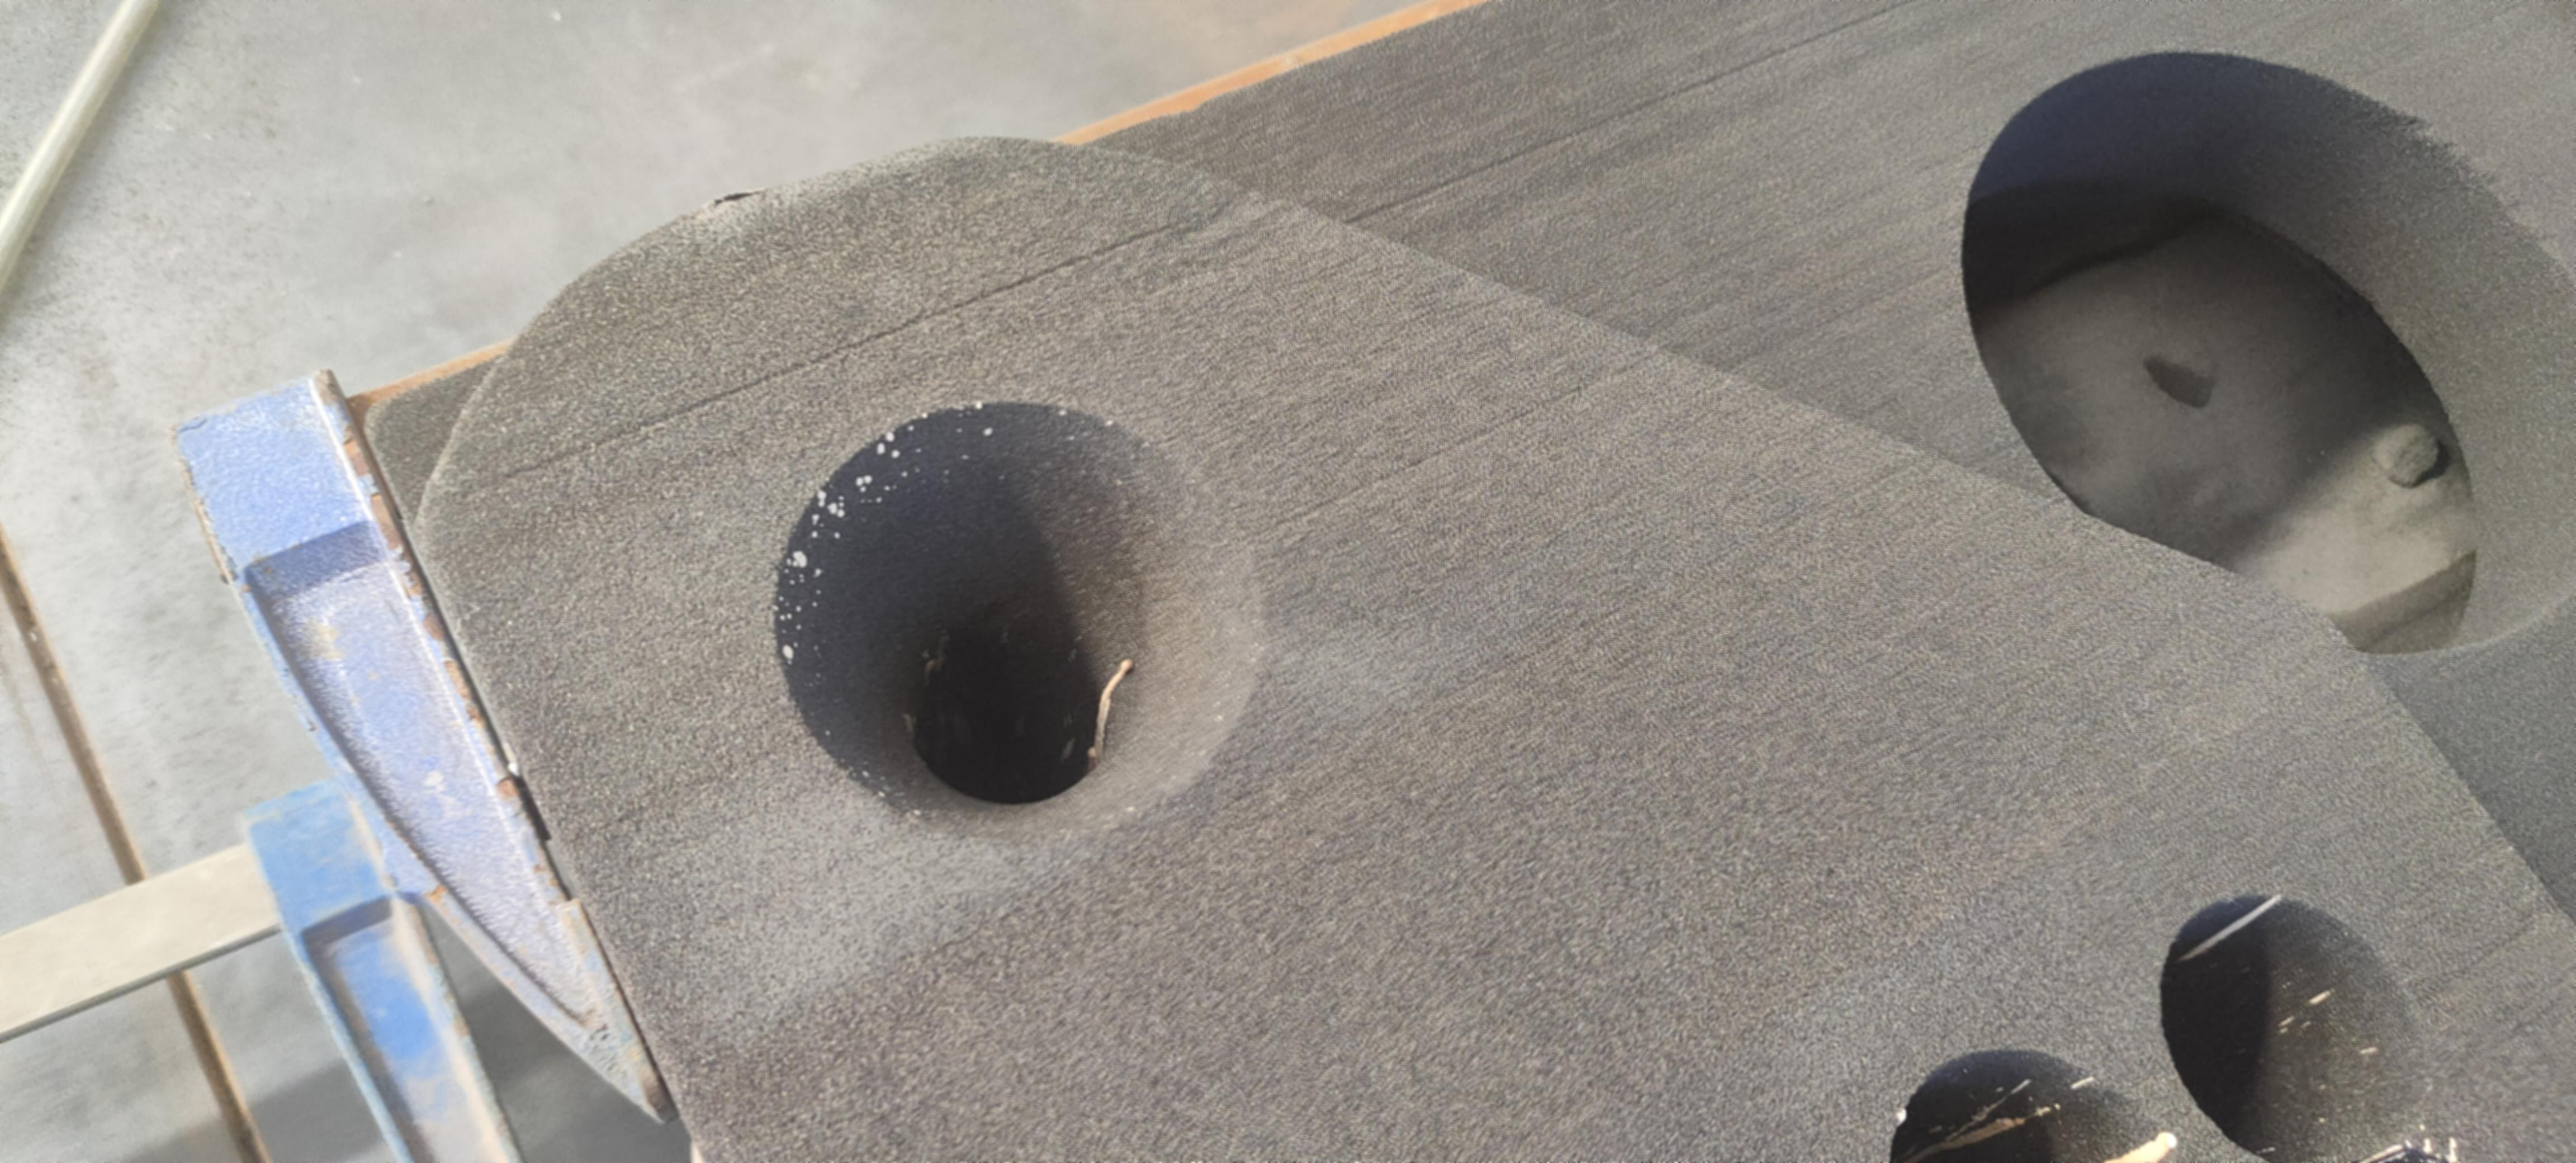pouring hole: (772, 401, 1262, 846)
